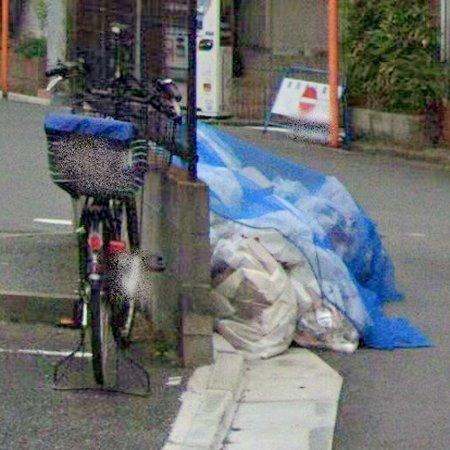bicycles: (44, 60, 177, 391)
